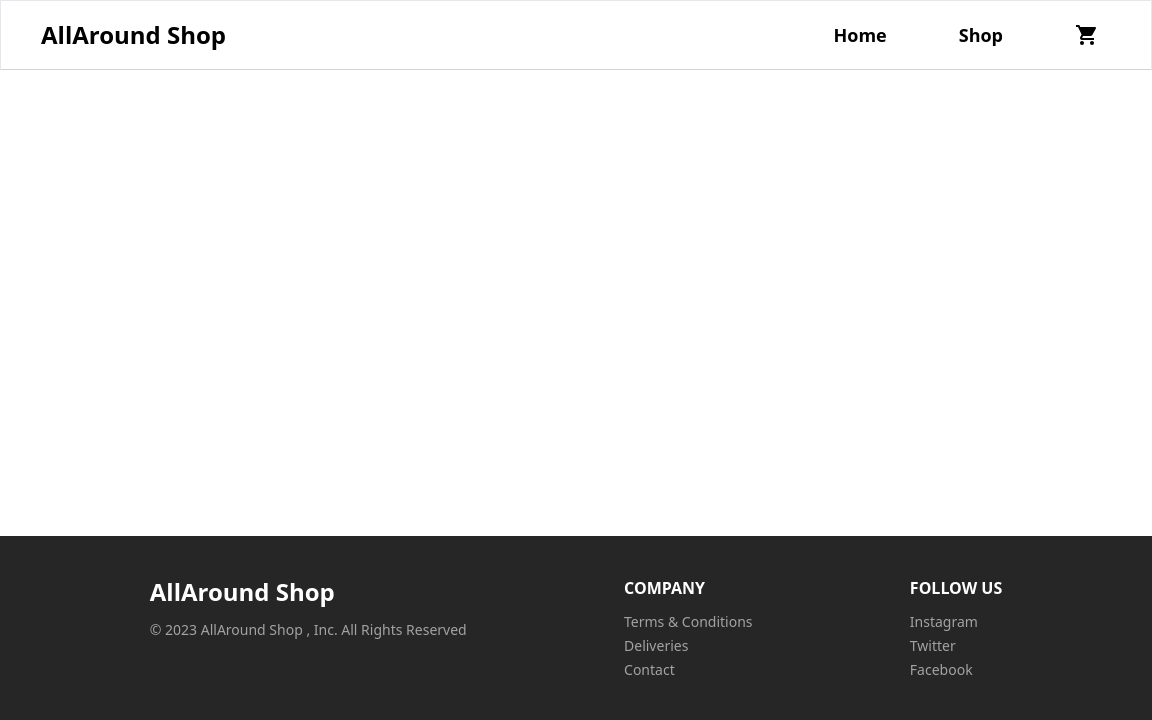
Test case: App component › Cart rendering › renders cart on click
Step 1. Click the button named "cart button" → (1087, 35), box [1063,17,1111,53]
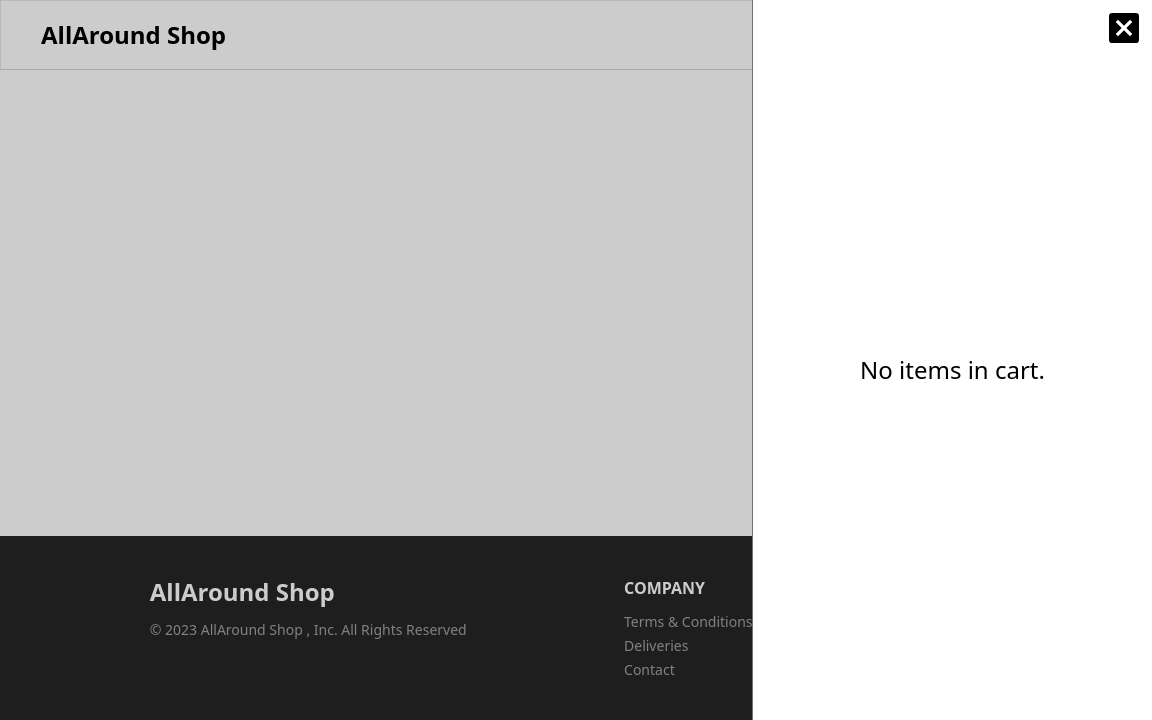
Expected: the element labelled "No items in cart." is shown, [752,0,1151,719]
